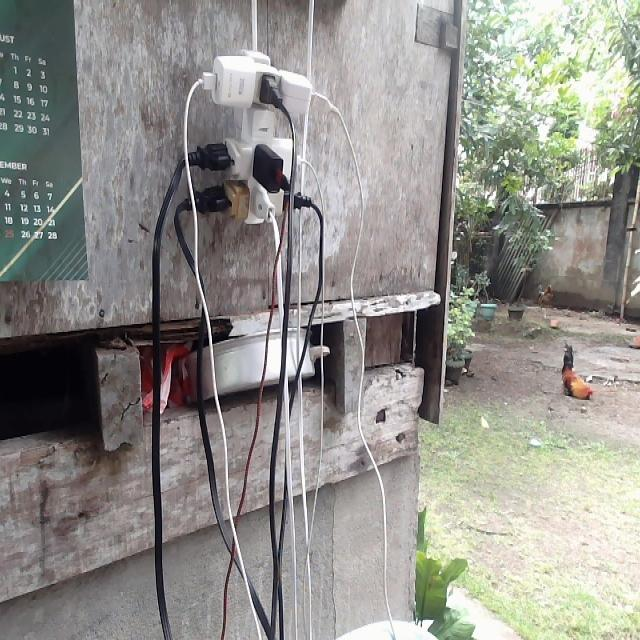-: (177, 50, 312, 222)
